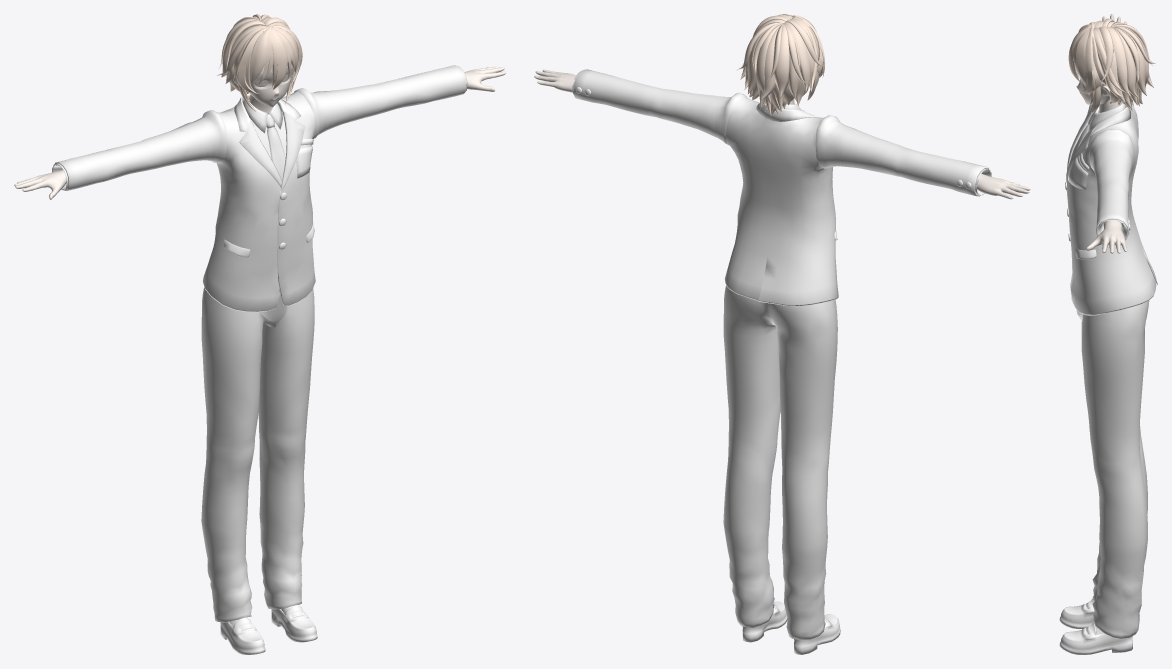
Rendered from 西田優汰 exported model atlas.fbx.
3 renders of one model, left to right at view 1: azimuth 30°, elevation 25°; view 2: azimuth 150°, elevation 25°; view 3: azimuth 270°, elevation 25°, orthographic.
Parts seen in each view (by area): view 1: Outfit 00 西田優汰.001, Hair Outfit 00 西田優汰.001, Body 西田優汰.001; view 2: Outfit 00 西田優汰.001, Hair Outfit 00 西田優汰.001, Body 西田優汰.001; view 3: Outfit 00 西田優汰.001, Hair Outfit 00 西田優汰.001, Body 西田優汰.001.
Part boxes in pixels (bbox=[...]): Outfit 00 西田優汰.001: bbox=[52, 65, 467, 654]; Hair Outfit 00 西田優汰.001: bbox=[217, 14, 302, 111]; Body 西田優汰.001: bbox=[14, 64, 505, 199]; Outfit 00 西田優汰.001: bbox=[572, 69, 991, 654]; Hair Outfit 00 西田優汰.001: bbox=[737, 14, 825, 116]; Body 西田優汰.001: bbox=[534, 69, 1030, 199]; Outfit 00 西田優汰.001: bbox=[1059, 101, 1157, 654]; Hair Outfit 00 西田優汰.001: bbox=[1068, 18, 1155, 113]; Body 西田優汰.001: bbox=[1076, 14, 1126, 253].
Size of the model in its own units: 1.57 by 1.88 by 0.274.
